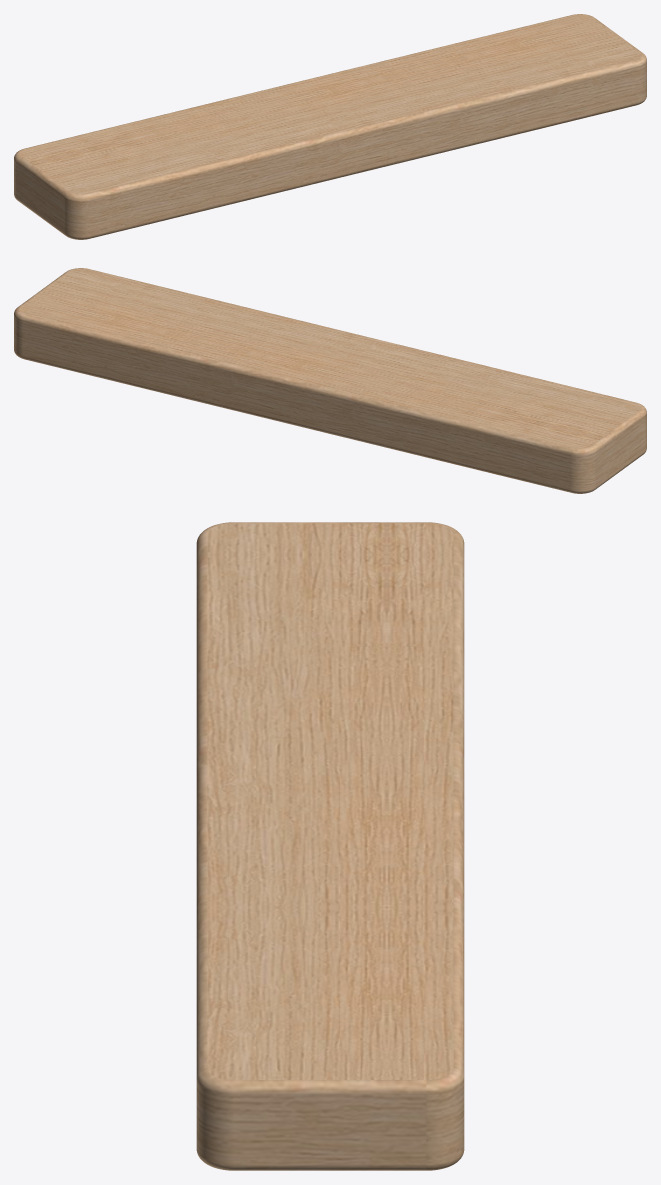
Rendered from wall_floating_shelf_french_oak.glb.
The picture shows the model from 3 angles, top to bottom: view 1: azimuth 30°, elevation 25°; view 2: azimuth 150°, elevation 25°; view 3: azimuth 270°, elevation 25°; orthographic projection. The views are drawn at different scales.
Visible parts, largest first — view 1: Oak_Casework; view 2: Oak_Casework; view 3: Oak_Casework.
Part boxes in pixels (x1,y1,x2,y2): Oak_Casework: (14, 14, 646, 239); Oak_Casework: (14, 268, 646, 493); Oak_Casework: (196, 522, 464, 1170).
Bounding box in the file's own units: 1.3 × 0.096 × 0.26.
1 material, 1 textured.
